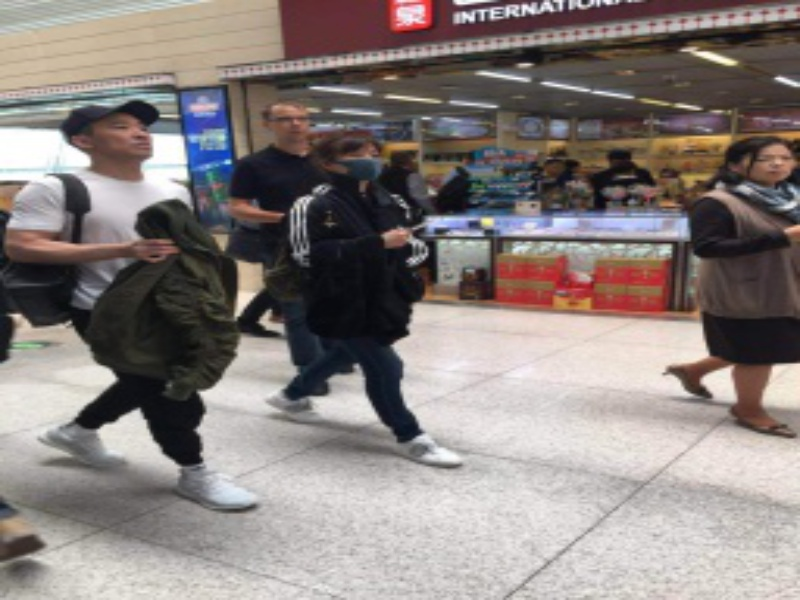ManaoArotava: (321, 132, 402, 198)
TsisyArotava: (63, 98, 174, 178), (717, 126, 796, 202), (256, 88, 320, 154)
